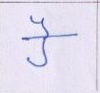ai_matra: (30, 16, 52, 35)
